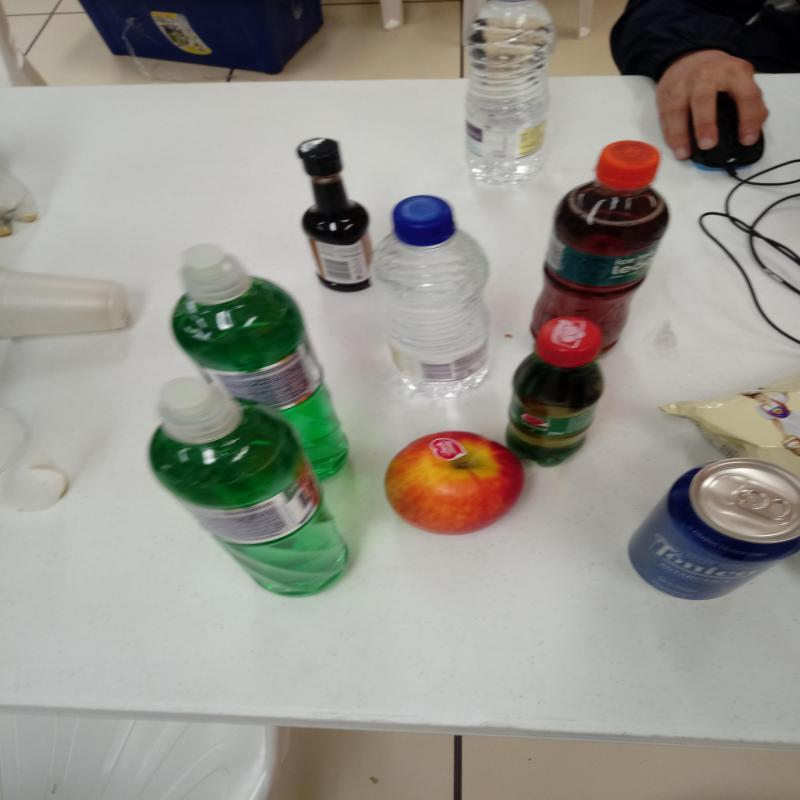Apple: (384, 430, 526, 532)
Cleaner: (149, 367, 356, 599), (173, 243, 353, 481)
CornFlakes: (663, 372, 800, 485)
EnglishSauce: (300, 139, 376, 293)
Guarana: (507, 319, 604, 460)
IceTea: (526, 141, 671, 354)
Tonic: (623, 464, 800, 598)
Water: (375, 196, 494, 395), (465, 1, 556, 188)
